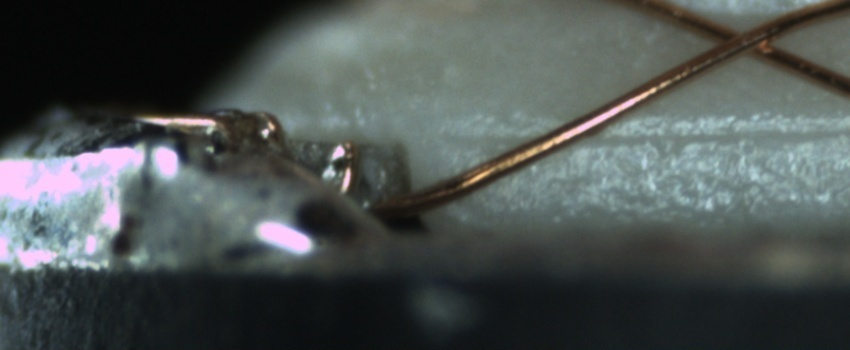CL: (697, 11, 793, 65)
DL: (444, 104, 849, 168)
TE: (121, 106, 365, 203)
